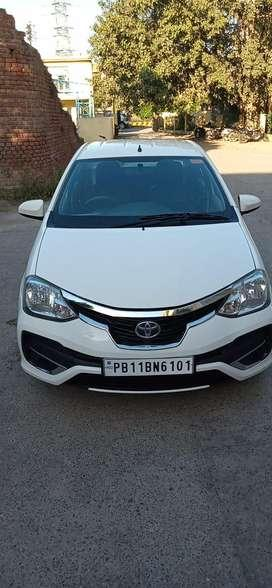PB11BN6101: (101, 355, 192, 376)
